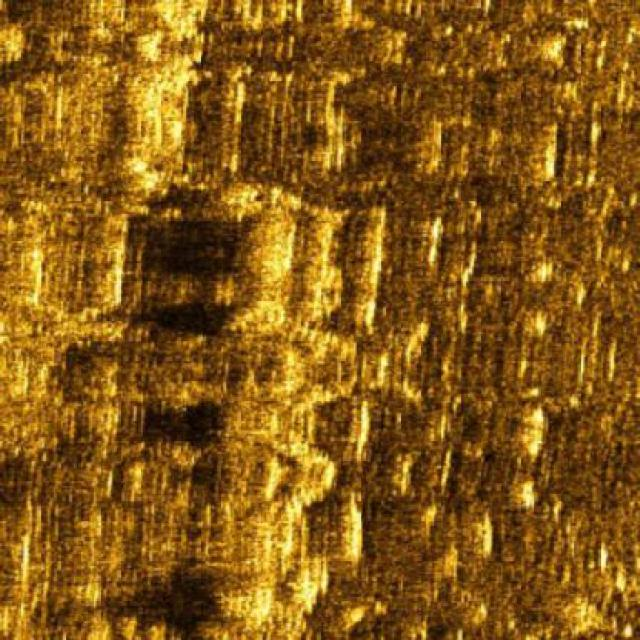bedrock group: (0, 1, 389, 639)
